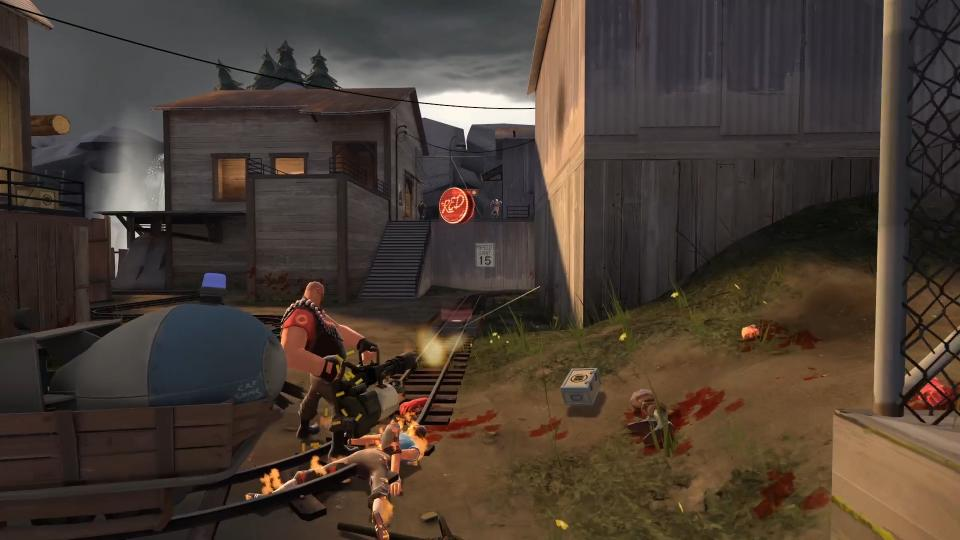Enemy: (280, 280, 417, 460), (245, 421, 428, 540), (490, 198, 502, 217), (418, 200, 427, 220)
